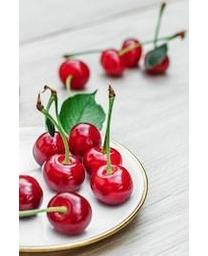cherry: (47, 192, 92, 234), (42, 152, 86, 192), (91, 165, 133, 205), (32, 130, 68, 168), (84, 143, 122, 176), (68, 123, 101, 159), (59, 59, 90, 89), (20, 174, 42, 215)
